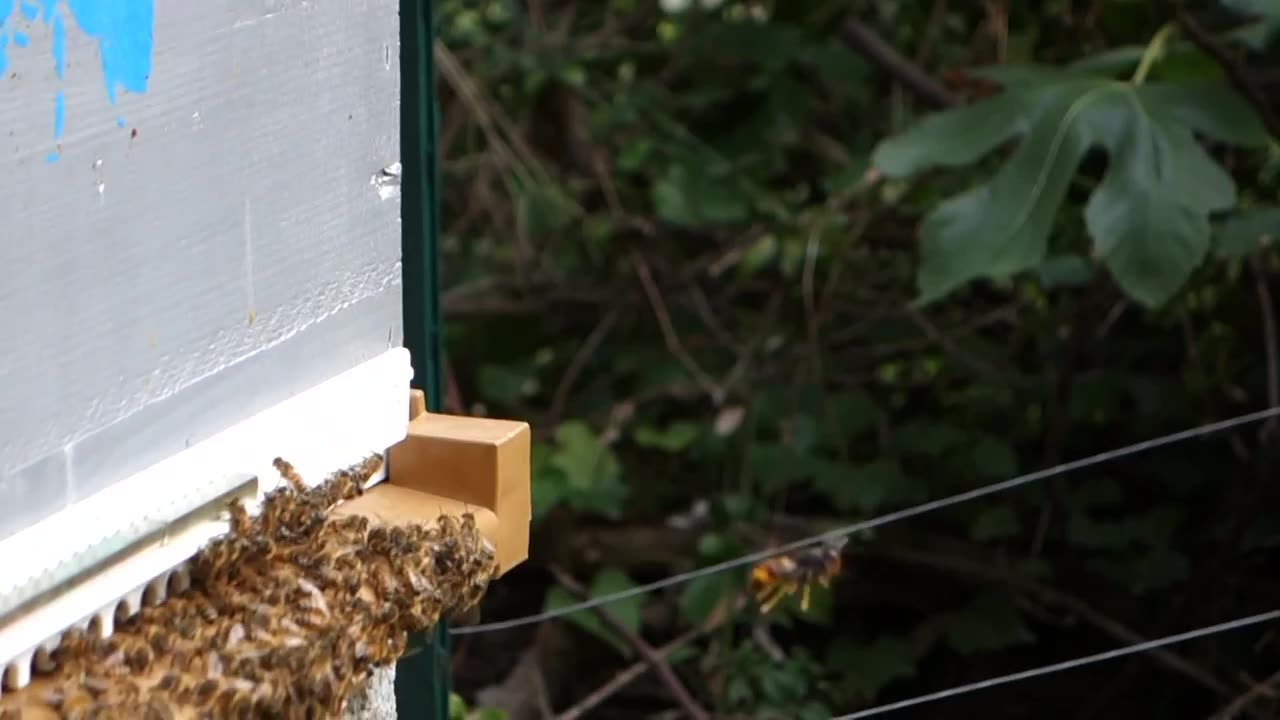bee: (178, 619, 333, 720), (188, 547, 337, 620), (77, 625, 174, 720), (340, 547, 431, 641), (263, 500, 428, 548), (437, 510, 492, 610), (222, 486, 250, 541), (266, 459, 314, 491), (359, 447, 384, 485)
hornet: (743, 532, 852, 607)
